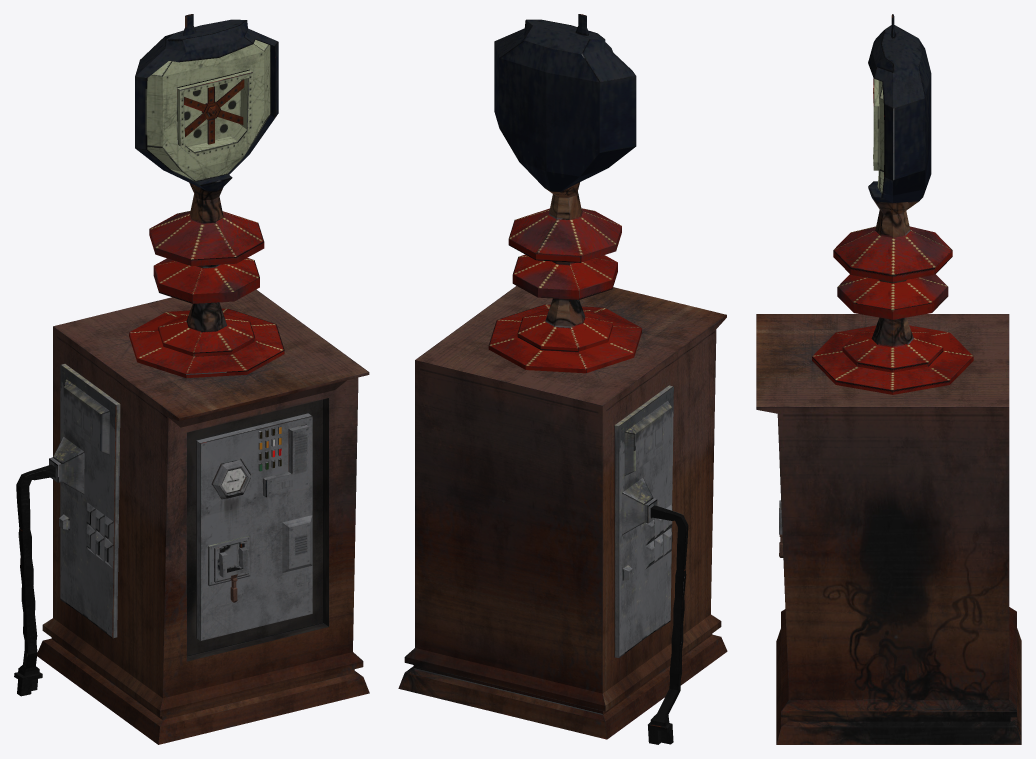
The model's file is Electro Flux Terminal Animatable.fbx.
The picture shows the model from 3 angles, left to right: view 1: azimuth 30°, elevation 25°; view 2: azimuth 150°, elevation 25°; view 3: azimuth 270°, elevation 25°; orthographic projection.
Visible parts, largest first — view 1: Base, Knife_Switch; view 2: Base; view 3: Base.
Part boxes in pixels (left/top/right/bottom): Base: left=14, top=14, right=369, bottom=744; Knife_Switch: left=218, top=547, right=247, bottom=602; Base: left=398, top=14, right=727, bottom=744; Base: left=756, top=14, right=1021, bottom=744.
Size of the model in its own units: 104 by 258 by 91.04.
